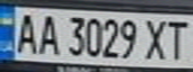0: (81, 15, 103, 58)
2: (100, 15, 121, 60)
3: (63, 12, 84, 57)
9: (118, 16, 142, 61)
A: (9, 10, 42, 55), (33, 11, 60, 55)
T: (163, 17, 193, 61)
X: (139, 16, 172, 61)
